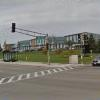Crosswalk: (1, 67, 92, 88)
